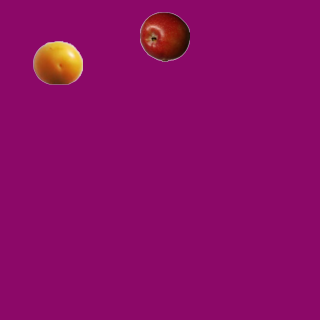Apple Braeburn: (139, 11, 189, 61)
Cherry Wax Yellow: (32, 37, 82, 87)
